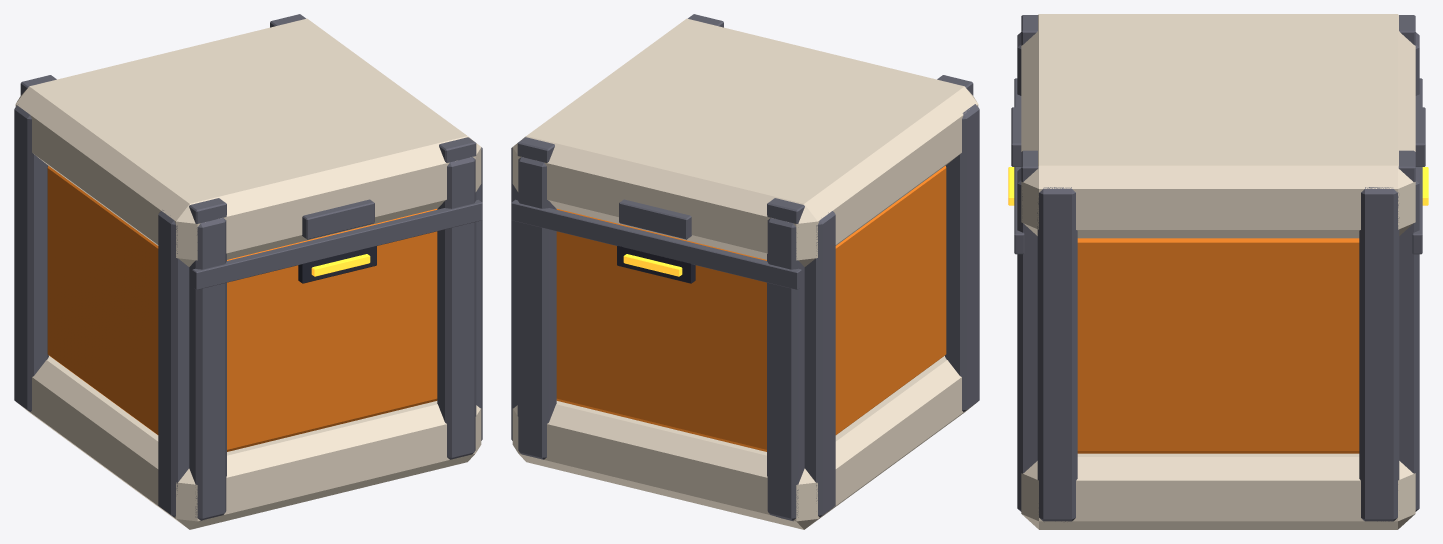
The model's file is asset.glb.
The picture shows the model from 3 angles, left to right: view 1: azimuth 30°, elevation 25°; view 2: azimuth 150°, elevation 25°; view 3: azimuth 270°, elevation 25°; orthographic projection. The views are drawn at different scales.
Visible parts, largest first — view 1: Mesh_ivory cap (×2), Mesh_orange core, Mesh_corner rib (×2), Mesh_side rib (×3), Mesh_face seam, Mesh_top strap (×2), Mesh_handle, Mesh_status bezel, Mesh_status light; view 2: Mesh_ivory cap (×2), Mesh_orange core, Mesh_corner rib (×2), Mesh_side rib (×3), Mesh_face seam, Mesh_top strap (×2), Mesh_handle, Mesh_status bezel, Mesh_status light; view 3: Mesh_ivory cap (×2), Mesh_orange core, Mesh_side rib (×2), Mesh_corner rib (×2), Mesh_top strap (×2), Mesh_face seam (×2), Mesh_handle (×2).
Boxes of the visible parts, x1,y1,x2,y2 form: Mesh_ivory cap (×2): (15,18,481,529); Mesh_orange core: (47,166,437,451); Mesh_corner rib (×2): (189,157,476,520); Mesh_side rib (×3): (14,104,482,517); Mesh_face seam: (192,199,482,289); Mesh_top strap (×2): (20,14,476,223); Mesh_handle: (302,199,374,239); Mesh_status bezel: (298,246,376,283); Mesh_status light: (311,254,370,276); Mesh_ivory cap (×2): (512,18,978,529); Mesh_orange core: (556,166,946,451); Mesh_corner rib (×2): (517,157,804,521); Mesh_side rib (×3): (511,104,979,517); Mesh_face seam: (511,199,801,289); Mesh_top strap (×2): (517,14,973,223); Mesh_handle: (619,199,691,239); Mesh_status bezel: (617,246,695,283); Mesh_status light: (623,254,682,276); Mesh_ivory cap (×2): (1021,14,1415,529); Mesh_orange core: (1077,238,1359,453); Mesh_side rib (×2): (1037,187,1399,521); Mesh_corner rib (×2): (1017,168,1419,511); Mesh_top strap (×2): (1021,15,1415,181); Mesh_face seam (×2): (1014,78,1422,254); Mesh_handle (×2): (1011,107,1425,166).
Size of the model in its own units: 1 by 1 by 1.04.
